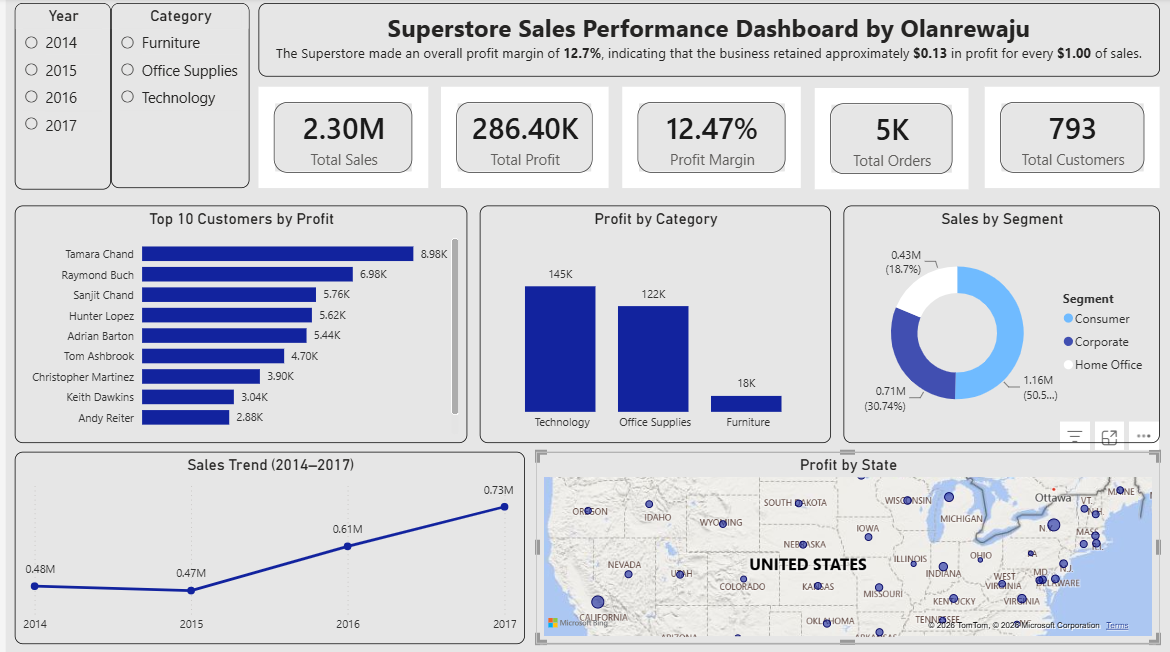

The page's visual inventory and layout, read from the dashboard file:
{"tool":"powerbi","page":{"name":"Page 1","canvas":[1280,720],"ordinal":0},"visuals":[{"type":"cardVisual","fields":{"Data":["Sample - Superstore.Profit Margin"]},"box":[676.5,97.4,196.2,111.1],"z":0},{"type":"cardVisual","fields":{"Data":["Sample - Superstore.Total Sales"]},"box":[277.2,97.4,186.6,111.1],"z":1000},{"type":"cardVisual","fields":{"Data":["Sample - Superstore.Total Customers"]},"box":[1074.4,97.4,192.1,111.1],"z":2000},{"type":"cardVisual","fields":{"Data":["Sample - Superstore.Total Profit"]},"box":[477.5,97.4,183.9,111.1],"z":3000},{"type":"cardVisual","fields":{"Data":["Sample - Superstore.Total Order"]},"box":[887.8,98.8,168.8,111.1],"z":4000},{"type":"barChart","title":"Top 10 Customers by Profit","fields":{"Category":["Sample - Superstore.Customer Name"],"Y":["Sample - Superstore.Total Profit"]},"box":[9.6,227.8,496.7,260.7],"z":5000},{"type":"columnChart","title":"Profit by Category","fields":{"Y":["Sum(Sample - Superstore.Profit)"],"Category":["Sample - Superstore.Category"]},"box":[520.1,227.8,385.6,260.7],"z":6000},{"type":"lineChart","title":"Sales Trend (2014–2017)","fields":{"Y":["Sample - Superstore.Total Sales"],"Category":["Sample - Superstore.Order Date.Variation.Date Hierarchy.Year"]},"box":[9.6,498.1,559.9,211.3],"z":7000},{"type":"map","title":"Profit by State","fields":{"Size":["Sample - Superstore.Total Profit"],"Category":["Sample - Superstore.State"]},"box":[581.8,498.1,684.7,211.3],"z":8000},{"type":"donutChart","title":"Sales by Segment","fields":{"Y":["Sample - Superstore.Total Sales"],"Category":["Sample - Superstore.Segment"]},"box":[919.4,227.8,347.2,260.7],"z":9000},{"type":"listSlicer","fields":{"Values":["Sample - Superstore.Order Date.Variation.Date Hierarchy.Year"]},"box":[9.6,5.5,105.7,204.5],"z":10000},{"type":"listSlicer","fields":{"Values":["Sample - Superstore.Category"]},"box":[115.3,5.5,152.3,203.1],"z":11000},{"type":"textbox","box":[277.2,5.5,989.4,81],"z":12000}]}

Visuals, with their boxes in screenshot pixels (x1, y1, x2, y2), scaled from the page's 1280x720 canvas onto the 1170x652 screenshot:
cardVisual - Sample - Superstore.Profit Margin: rect(618, 88, 798, 189)
cardVisual - Sample - Superstore.Total Sales: rect(253, 88, 424, 189)
cardVisual - Sample - Superstore.Total Customers: rect(982, 88, 1158, 189)
cardVisual - Sample - Superstore.Total Profit: rect(436, 88, 605, 189)
cardVisual - Sample - Superstore.Total Order: rect(812, 89, 966, 190)
"Top 10 Customers by Profit" barChart: rect(9, 206, 463, 442)
"Profit by Category" columnChart: rect(475, 206, 828, 442)
"Sales Trend (2014–2017)" lineChart: rect(9, 451, 521, 642)
"Profit by State" map: rect(532, 451, 1158, 642)
"Sales by Segment" donutChart: rect(840, 206, 1158, 442)
listSlicer - Sample - Superstore.Order Date.Variation.Date Hierarchy.Year: rect(9, 5, 105, 190)
listSlicer - Sample - Superstore.Category: rect(105, 5, 245, 189)
textbox: rect(253, 5, 1158, 78)
